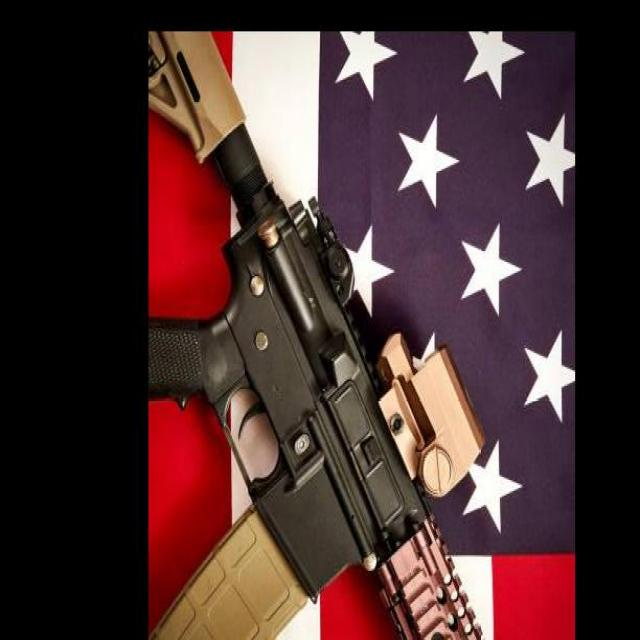heavy-weapon: (148, 29, 484, 640)
